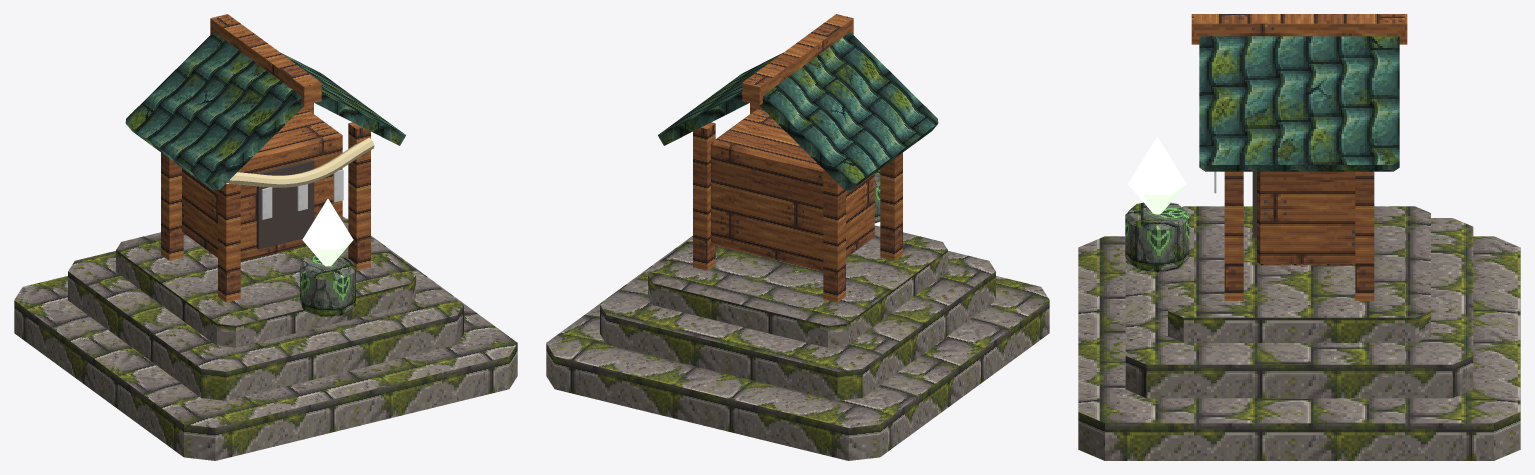
The model's file is shrine.glb.
3 renders of one model, left to right at view 1: azimuth 30°, elevation 25°; view 2: azimuth 150°, elevation 25°; view 3: azimuth 270°, elevation 25°, orthographic. The views are drawn at different scales.
Visible parts, largest first — view 1: Plinth0, Plinth1, Plinth2, Roof-1, Body, Door, Ridge, Offering, Post.002, Post, Roof1, Post.001 (+2 smaller); view 2: Plinth0, Plinth1, Plinth2, Body, Roof-1, Ridge, Post.003, Post.001, Roof1, Post; view 3: Plinth0, Plinth1, Roof1, Plinth2, Body, Ridge, Offering, Post.002, Post.003, Crystal.
Boxes of the visible parts, x1,y1,x2,y2 form: Plinth0: (14,218,517,460); Plinth1: (68,216,463,400); Plinth2: (116,222,415,347); Roof-1: (125,32,304,190); Body: (182,106,342,260); Door: (256,159,314,249); Ridge: (210,14,321,105); Offering: (300,255,355,316); Post.002: (348,122,370,270); Post: (218,169,240,302); Roof1: (281,53,405,145); Post.001: (161,152,183,260); Plinth0: (546,236,1049,460); Plinth1: (600,237,995,400); Plinth2: (648,225,947,347); Body: (711,108,874,271); Roof-1: (759,32,938,190); Ridge: (742,14,853,105); Post.003: (693,122,715,270); Post.001: (823,169,845,302); Roof1: (658,53,782,145); Post: (880,152,902,260); Plinth0: (1078,236,1520,460); Plinth1: (1125,218,1473,398); Roof1: (1199,36,1399,171); Plinth2: (1168,206,1430,342); Body: (1257,171,1355,265); Ridge: (1191,14,1407,44); Offering: (1125,202,1189,272); Post.002: (1224,171,1243,300); Post.003: (1355,171,1374,300); Crystal: (1128,136,1186,214).
Bounding box in the file's own units: 4.2 × 3.68 × 4.2.
Materials: 8 (5 with a texture image).
